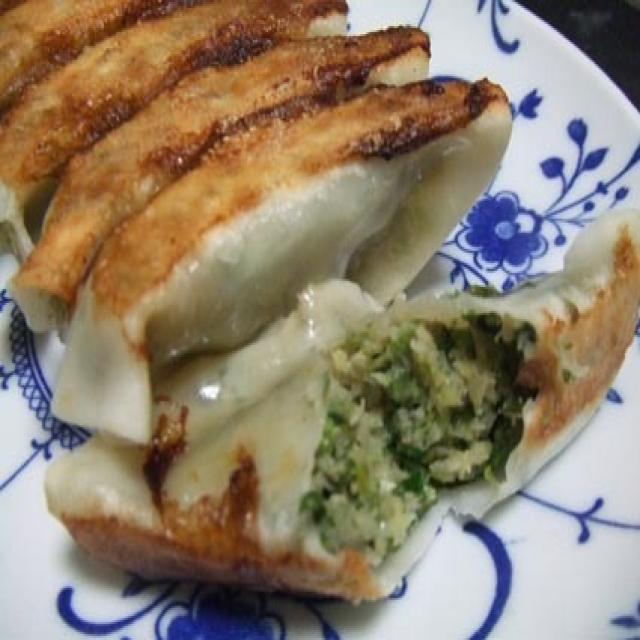带馅早点: (0, 0, 596, 592)
